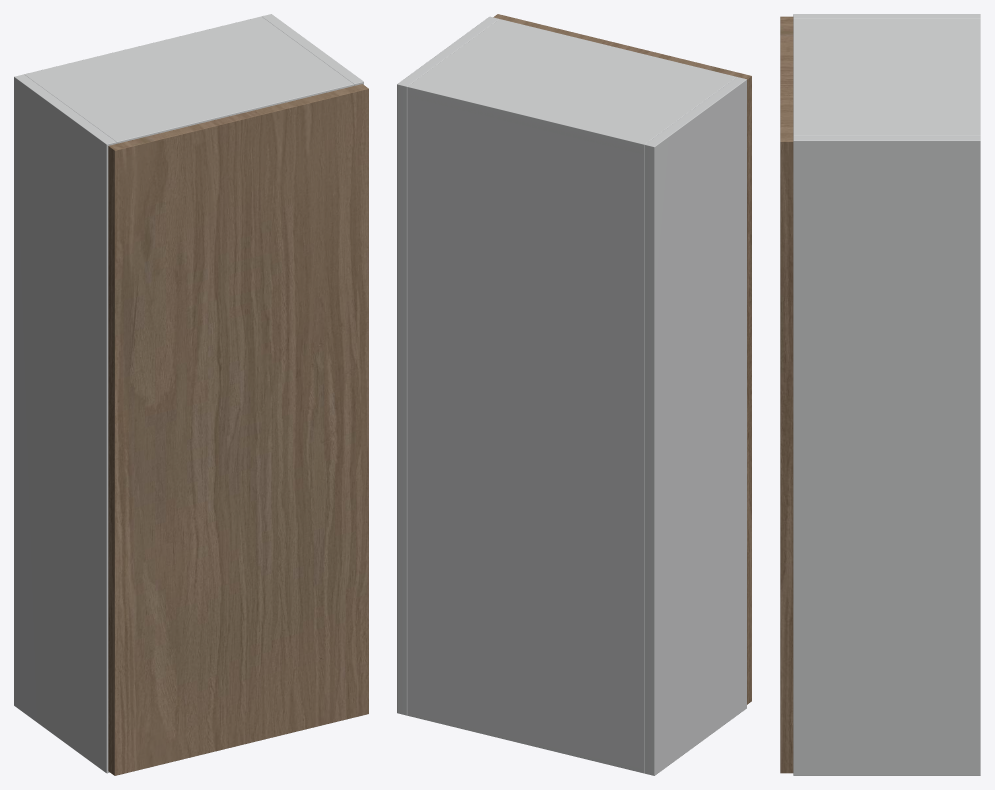
The model's file is oppein-pb-mnw-w1842.glb.
3 renders of one model, left to right at view 1: azimuth 30°, elevation 25°; view 2: azimuth 150°, elevation 25°; view 3: azimuth 270°, elevation 25°, orthographic.
Parts seen in each view (by area): view 1: Door, Cabinet side, Cabinet top, Cabinet side.001; view 2: Cabinet back, Cabinet side, Cabinet top, Cabinet side.001, Door, Cabinet bottom; view 3: Cabinet side.001, Cabinet top, Door, Cabinet side.
Boxes of the visible parts, left/top/right/bottom form: Door: left=108, top=84, right=368, bottom=775; Cabinet side: left=14, top=74, right=116, bottom=773; Cabinet top: left=24, top=16, right=353, bottom=143; Cabinet side.001: left=262, top=14, right=363, bottom=85; Cabinet back: left=407, top=87, right=644, bottom=772; Cabinet side: left=644, top=77, right=746, bottom=775; Cabinet top: left=407, top=19, right=736, bottom=154; Cabinet side.001: left=397, top=16, right=499, bottom=715; Door: left=493, top=14, right=751, bottom=704; Cabinet bottom: left=407, top=708, right=644, bottom=773; Cabinet side.001: left=793, top=136, right=980, bottom=775; Cabinet top: left=793, top=19, right=980, bottom=135; Door: left=780, top=16, right=793, bottom=773; Cabinet side: left=793, top=14, right=980, bottom=18.
Size of the model in its own units: 0.4572 by 1.07 by 0.3048.
2 materials, 1 textured.
